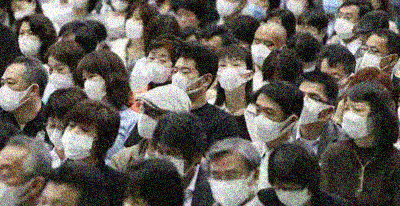with_mask: (206, 166, 250, 206), (58, 120, 94, 162), (340, 103, 372, 140), (151, 146, 184, 179), (217, 57, 245, 93), (254, 103, 278, 144), (271, 181, 309, 206), (135, 103, 160, 140), (296, 89, 322, 124), (144, 51, 170, 85), (0, 162, 19, 206), (46, 61, 73, 90), (359, 41, 385, 71), (16, 27, 41, 58), (250, 36, 275, 66), (44, 119, 67, 151), (169, 64, 193, 94), (333, 10, 356, 41), (81, 72, 104, 102), (322, 71, 344, 99), (123, 13, 145, 41), (11, 3, 32, 22)
without_mask: (175, 10, 194, 30)
